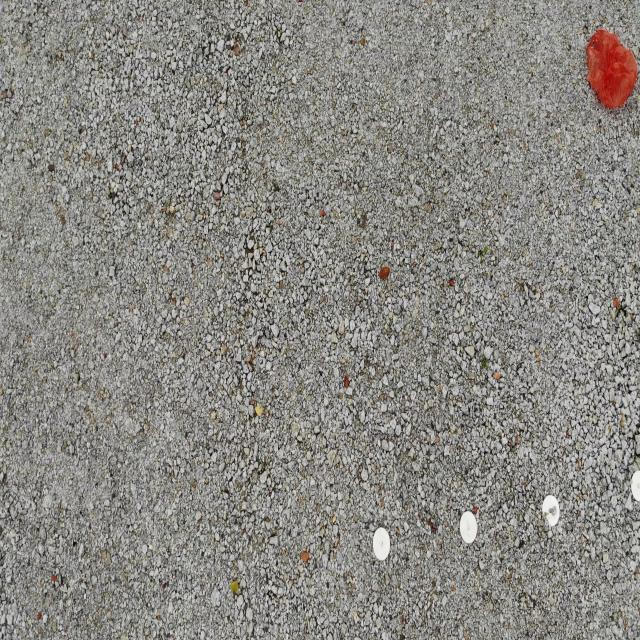rubbish: (585, 29, 636, 108)
